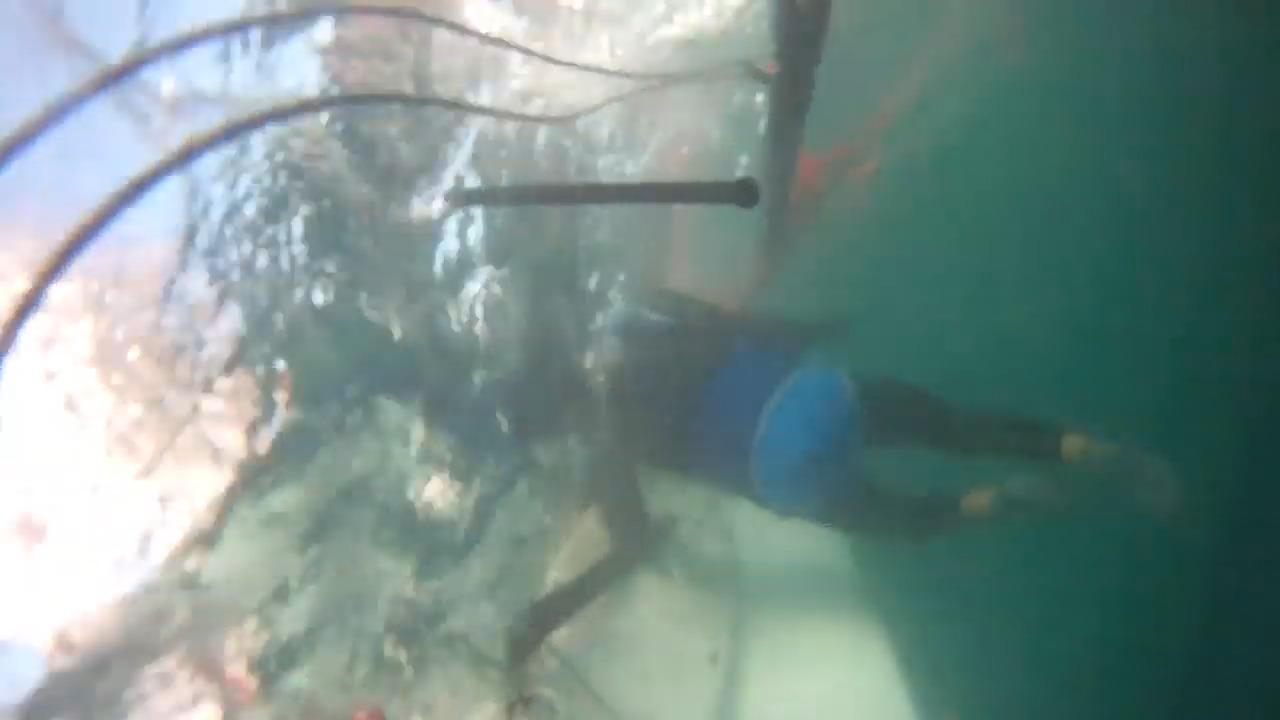boat: (55, 378, 920, 720), (744, 0, 1032, 294)
person: (506, 291, 1143, 668)
sky: (0, 1, 333, 712)
underwater: (0, 0, 1280, 720)
